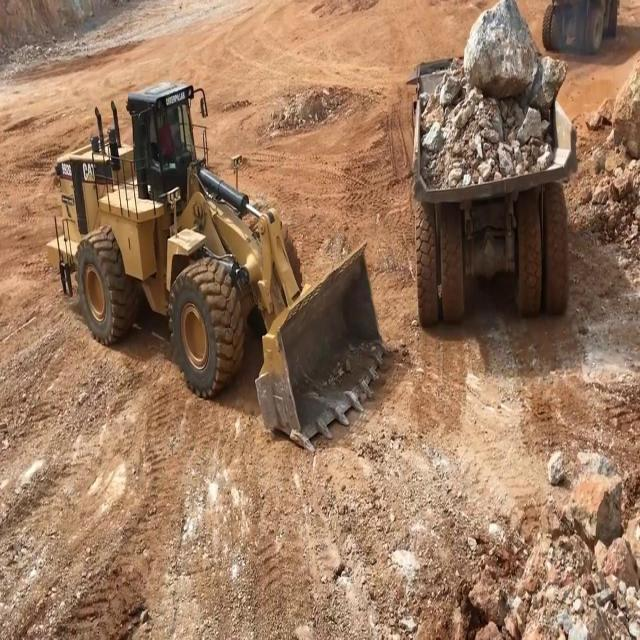Dump Truck: (408, 52, 578, 334)
Loader: (44, 79, 392, 449)
